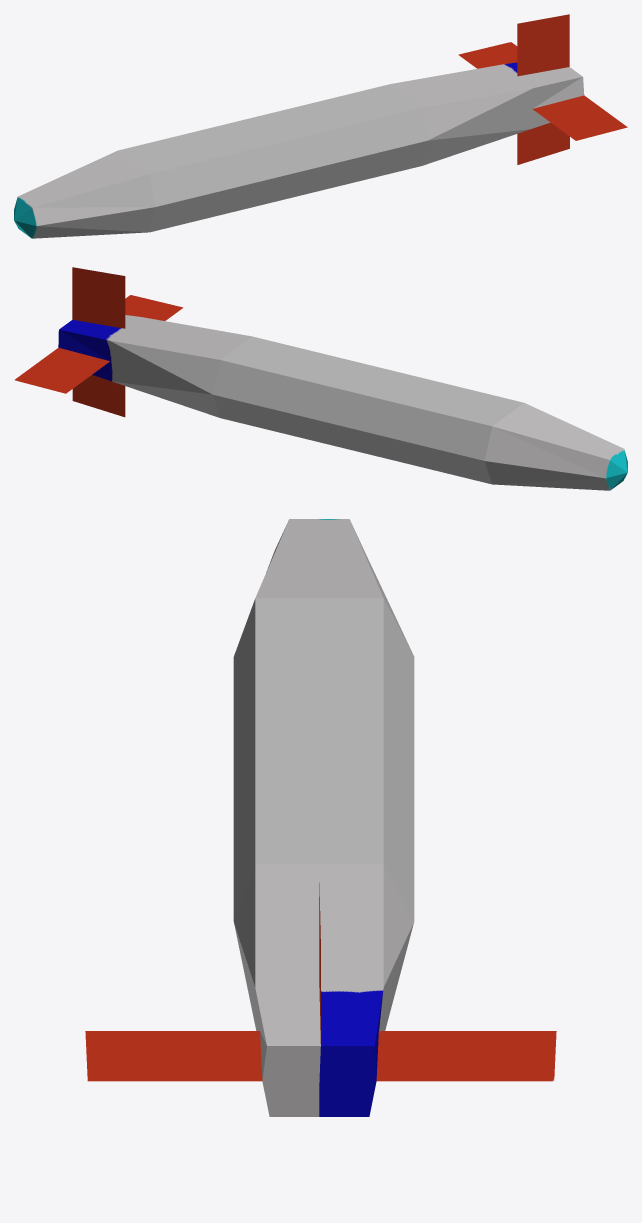
File: s-13_warhawk.obj
The picture shows the model from 3 angles, top to bottom: view 1: azimuth 30°, elevation 25°; view 2: azimuth 150°, elevation 25°; view 3: azimuth 270°, elevation 25°; orthographic projection. The views are drawn at different scales.
Parts seen in each view (by area): view 1: Cube_Cube.001; view 2: Cube_Cube.001; view 3: Cube_Cube.001.
Part boxes in pixels (x1,y1,x2,y2): Cube_Cube.001: (14,14,627,238); Cube_Cube.001: (14,267,627,490); Cube_Cube.001: (85,519,556,1116).
Size of the model in its own units: 19.96 by 4.86 by 7.34.
Materials: 1 (1 with a texture image).
